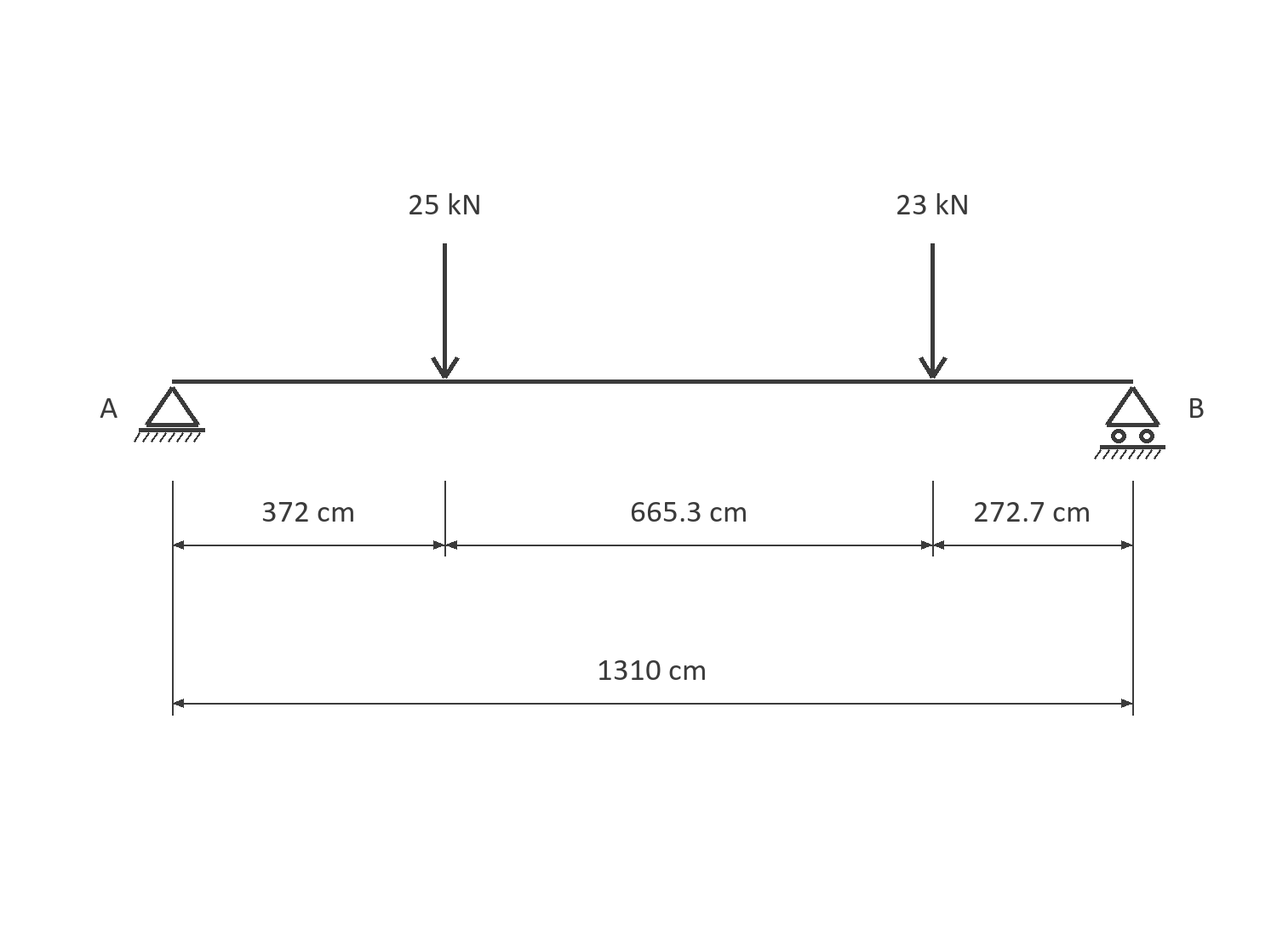pin_support: (134, 386, 205, 442)
point_load: (431, 243, 460, 379), (919, 243, 948, 379)
roller_support: (1094, 386, 1165, 459)
